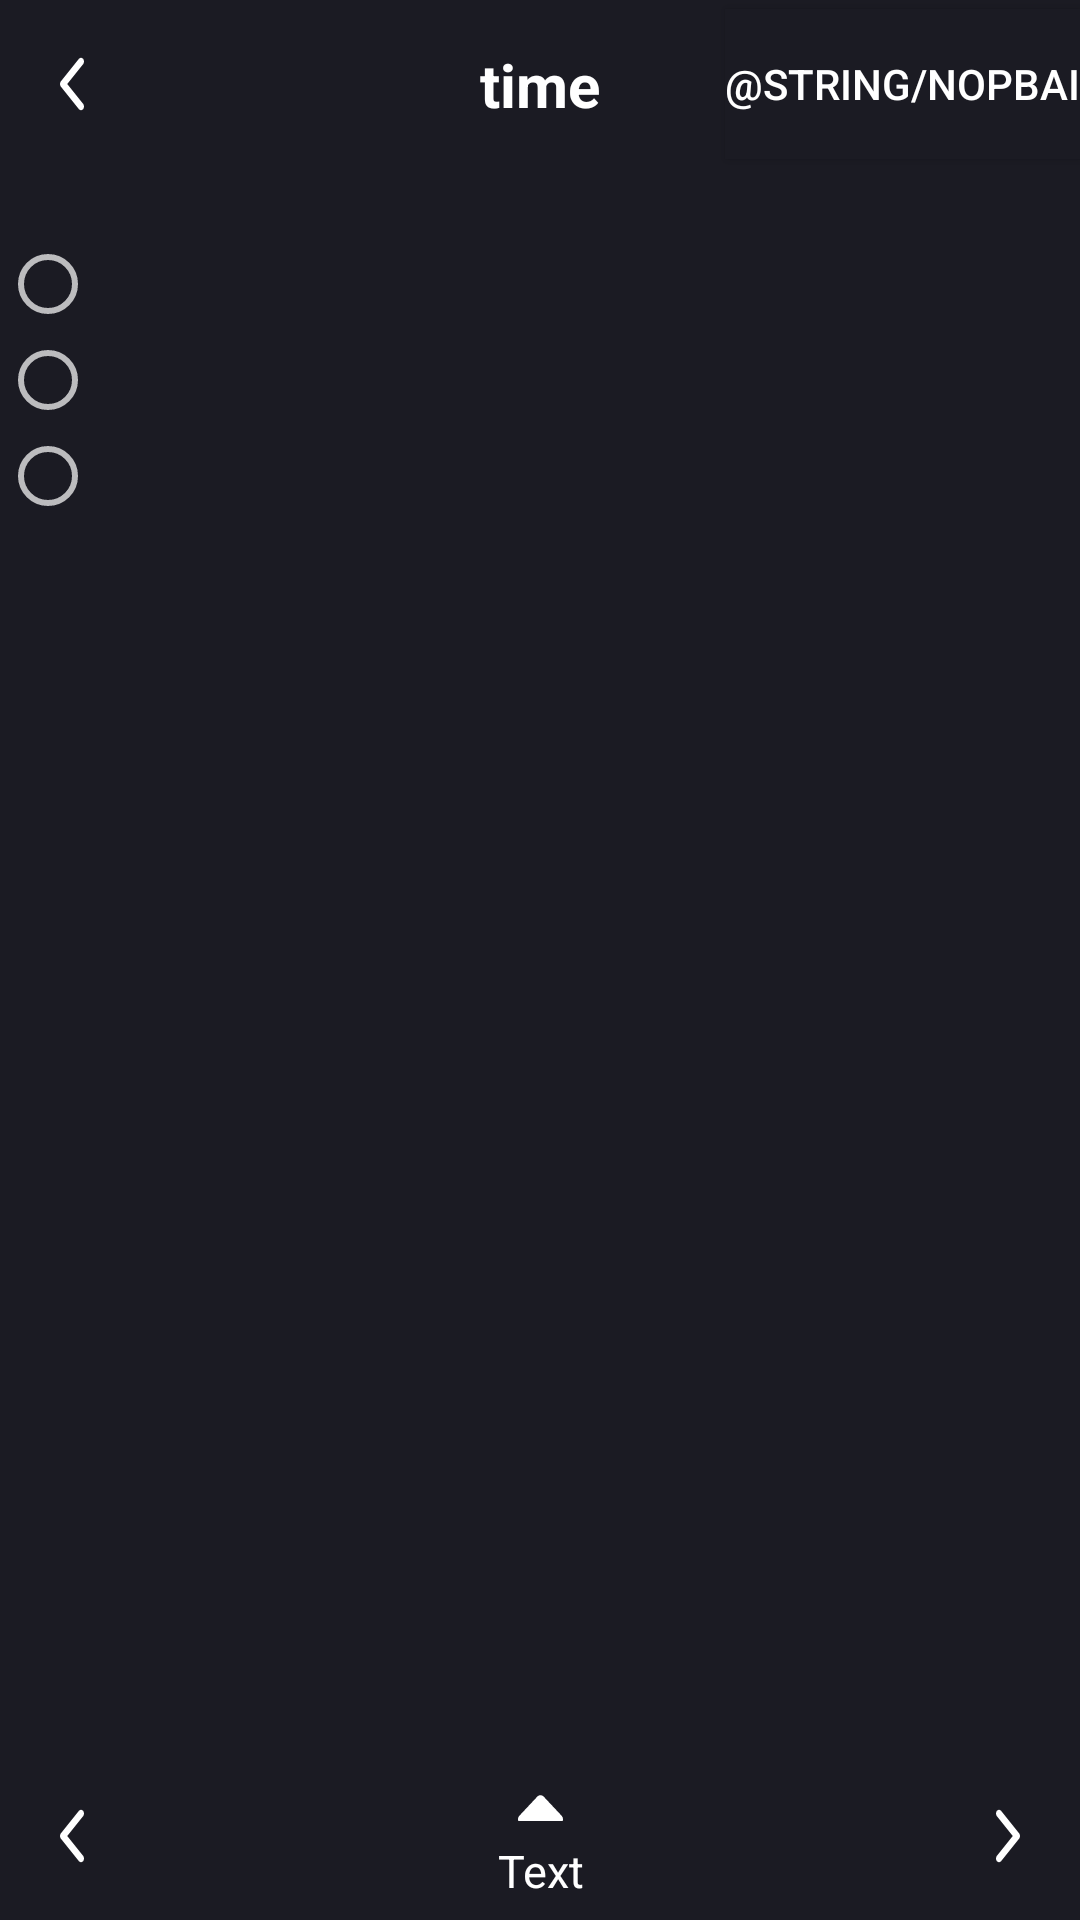

Named icons in this screenshot (1080w x 1920h) and their centers, point (x, y):
chevron left: point (72, 84), point (72, 1836)
chevron right: point (1008, 1836)
